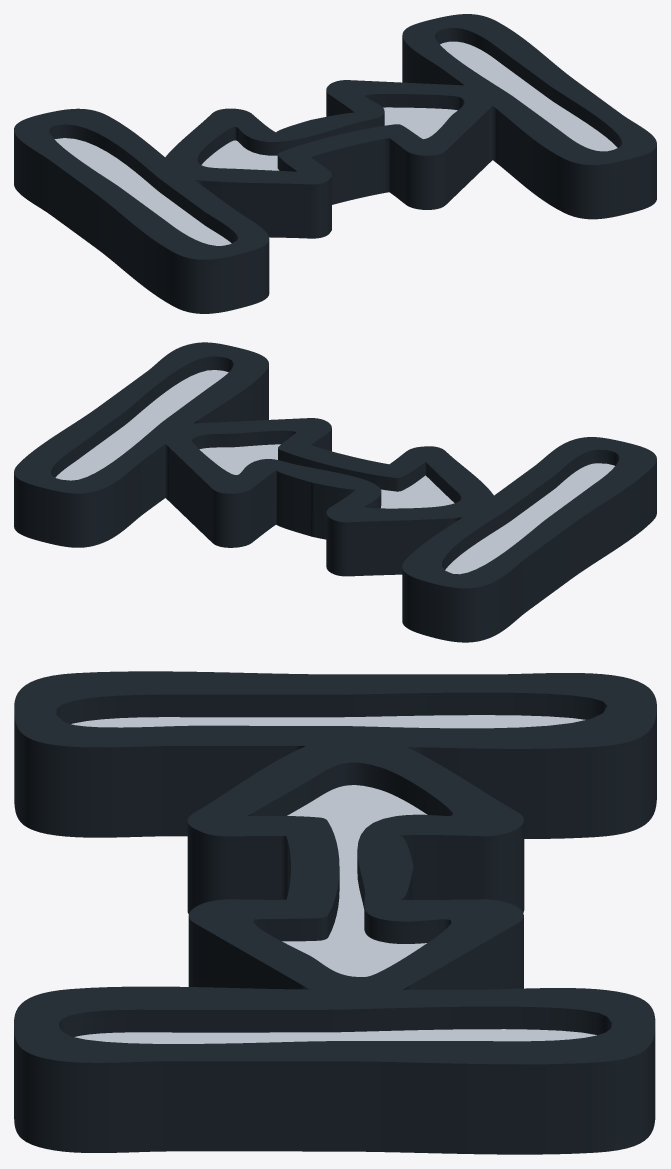
Rendered from Edit3.glb.
3 renders of one model, top to bottom at view 1: azimuth 30°, elevation 25°; view 2: azimuth 150°, elevation 25°; view 3: azimuth 270°, elevation 25°, orthographic. The views are drawn at different scales.
Parts seen in each view (by area): view 1: Curve.026; view 2: Curve.026; view 3: Curve.026.
Part boxes in pixels (left/top/right/bottom): Curve.026: left=14, top=14, right=656, bottom=313; Curve.026: left=14, top=342, right=656, bottom=642; Curve.026: left=14, top=671, right=656, bottom=1154.
Size of the model in its own units: 1.85 by 0.198 by 1.28.
1 material, 1 textured.
